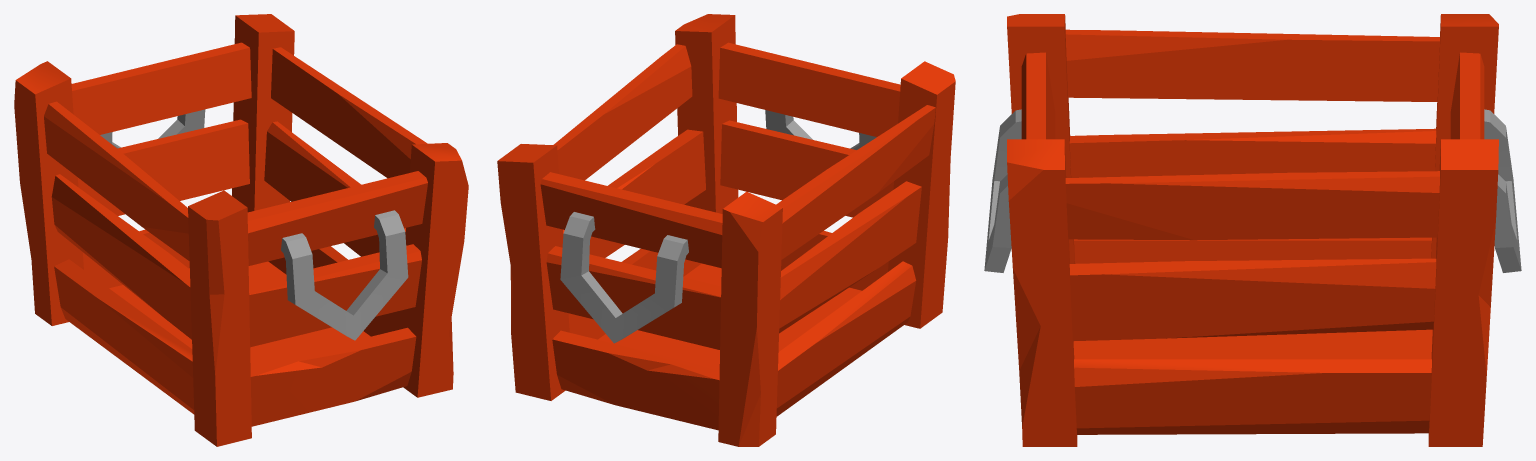
The model's file is Crate_1.fbx.
The picture shows the model from 3 angles, left to right: view 1: azimuth 30°, elevation 25°; view 2: azimuth 150°, elevation 25°; view 3: azimuth 270°, elevation 25°; orthographic projection. The views are drawn at different scales.
Visible parts, largest first — view 1: Crate_1; view 2: Crate_1; view 3: Crate_1.
Part boxes in pixels (left/top/right/bottom): Crate_1: left=14, top=14, right=468, bottom=446; Crate_1: left=497, top=14, right=955, bottom=446; Crate_1: left=984, top=14, right=1521, bottom=446.
Bounding box in the file's own units: 14.96 × 13.12 × 21.8.
